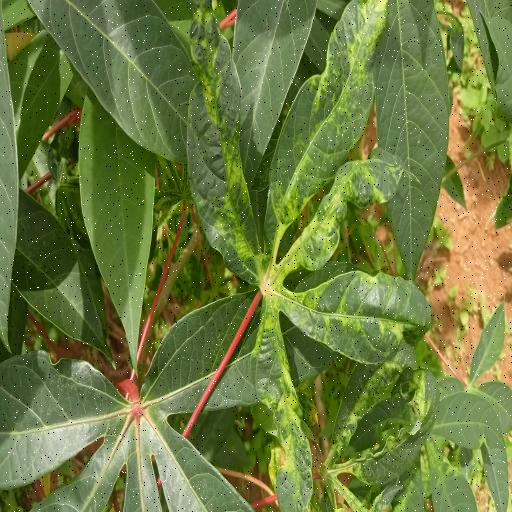Cassava_Mosaic: (190, 0, 448, 512)
